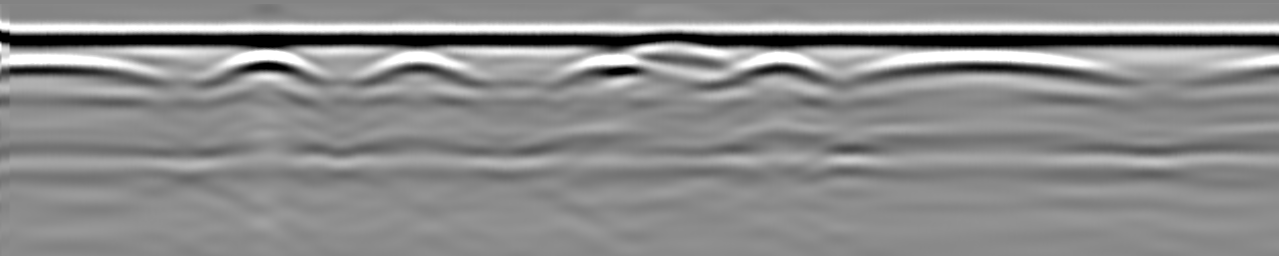pipe: (619, 31, 727, 58)
steel: (864, 49, 1122, 81), (4, 53, 163, 83), (358, 50, 480, 84), (206, 49, 331, 81), (731, 50, 836, 80), (558, 52, 644, 80)
